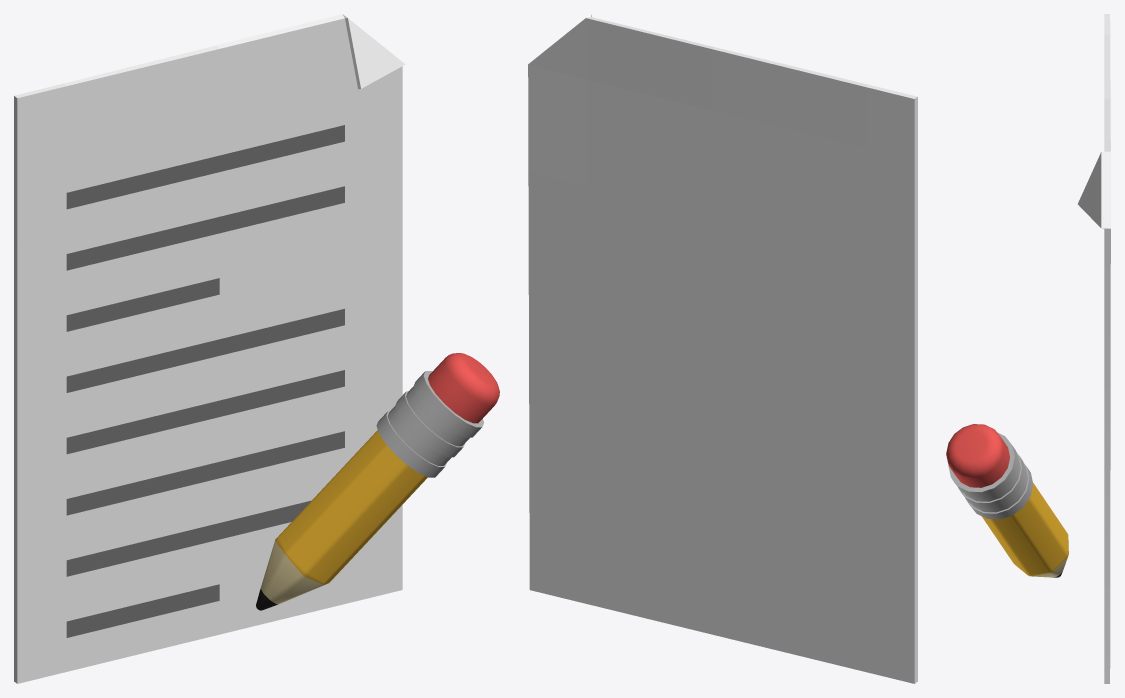
Rendered from memo.glb.
3 renders of one model, left to right at view 1: azimuth 30°, elevation 25°; view 2: azimuth 150°, elevation 25°; view 3: azimuth 270°, elevation 25°, orthographic. The views are drawn at different scales.
Parts seen in each view (by area): view 1: Plane.338, Circle.2564; view 2: Plane.338; view 3: Circle.2564, Plane.338.
Boxes of the visible parts, x1=… form: Plane.338: x1=14, y1=14, x2=405, y2=683; Circle.2564: x1=256, y1=353, x2=499, y2=610; Plane.338: x1=528, y1=14, x2=917, y2=683; Circle.2564: x1=946, y1=424, x2=1068, y2=577; Plane.338: x1=1078, y1=14, x2=1110, y2=683.
Bounding box in the file's own units: 1.72 × 2.38 × 0.6995.
1 material, 1 textured.
